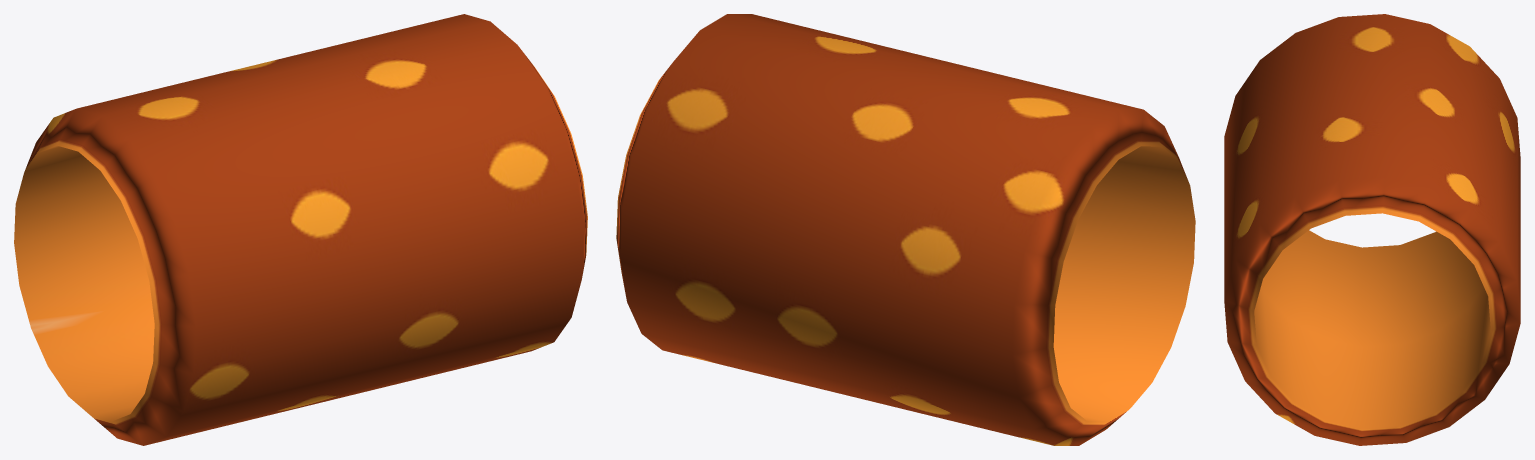
The model's file is LogHollowLow.fbx.
3 renders of one model, left to right at view 1: azimuth 30°, elevation 25°; view 2: azimuth 150°, elevation 25°; view 3: azimuth 270°, elevation 25°, orthographic. The views are drawn at different scales.
Parts seen in each view (by area): view 1: LogHollow; view 2: LogHollow; view 3: LogHollow.
Part boxes in pixels (bbox=[...]): LogHollow: bbox=[14, 14, 587, 445]; LogHollow: bbox=[616, 14, 1195, 445]; LogHollow: bbox=[1224, 14, 1520, 445].
Size of the model in its own units: 5.94 by 4.07 by 4.07.
